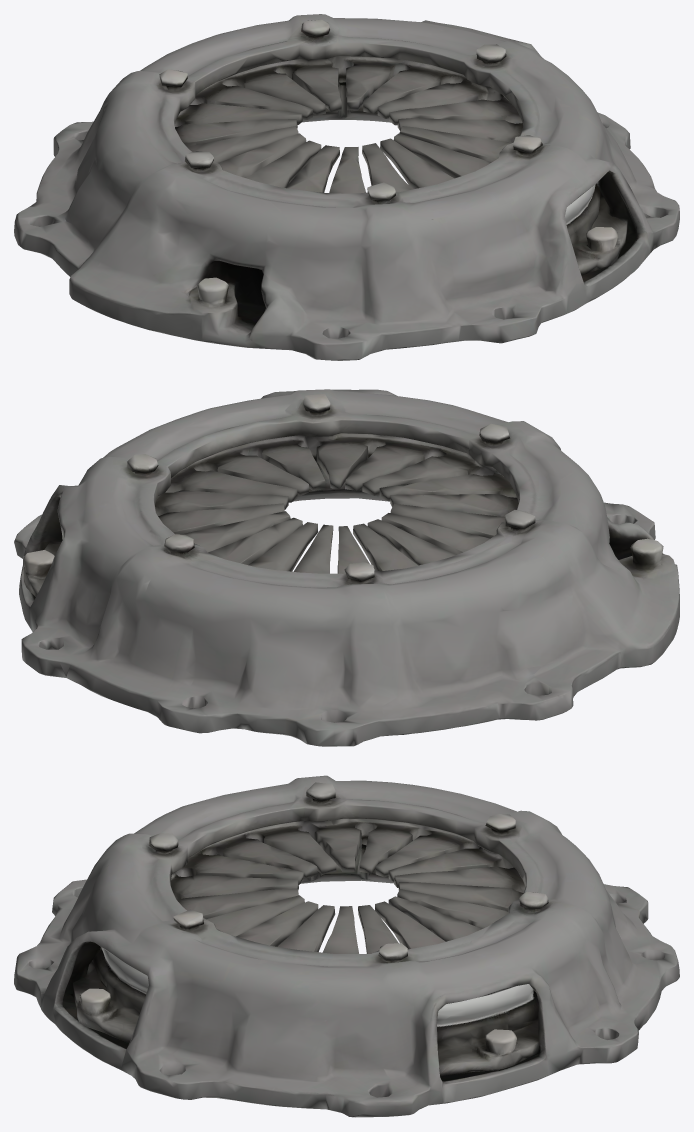
Rendered from clutch-clutch-release.glb.
3 views of the same model, one above another, from view 1: azimuth 30°, elevation 25°; view 2: azimuth 150°, elevation 25°; view 3: azimuth 270°, elevation 25° (orthographic). The views are drawn at different scales.
Parts seen in each view (by area): view 1: tripo_node_79ed8b7d-3703-466c-9f6b-87bdb3c612dd; view 2: tripo_node_79ed8b7d-3703-466c-9f6b-87bdb3c612dd; view 3: tripo_node_79ed8b7d-3703-466c-9f6b-87bdb3c612dd.
Boxes of the visible parts, <box> form: tripo_node_79ed8b7d-3703-466c-9f6b-87bdb3c612dd: <box>14,14,679,360</box>; tripo_node_79ed8b7d-3703-466c-9f6b-87bdb3c612dd: <box>14,389,679,746</box>; tripo_node_79ed8b7d-3703-466c-9f6b-87bdb3c612dd: <box>14,775,679,1117</box>.
Size of the model in its own units: 1 by 0.1862 by 0.9998.
Materials: 1 (1 with a texture image).
